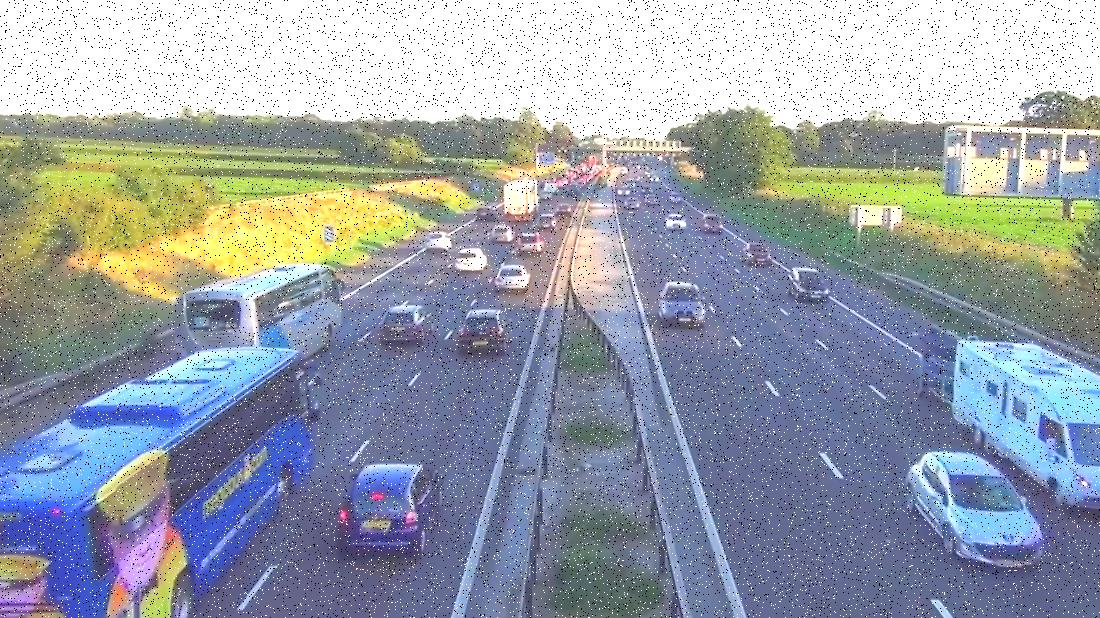car: (657, 279, 713, 329), (454, 314, 513, 355), (383, 304, 432, 345), (491, 263, 530, 291), (454, 248, 488, 273), (487, 225, 514, 243), (745, 246, 770, 265), (667, 216, 691, 231)
truck: (783, 266, 828, 299), (501, 181, 537, 220)
